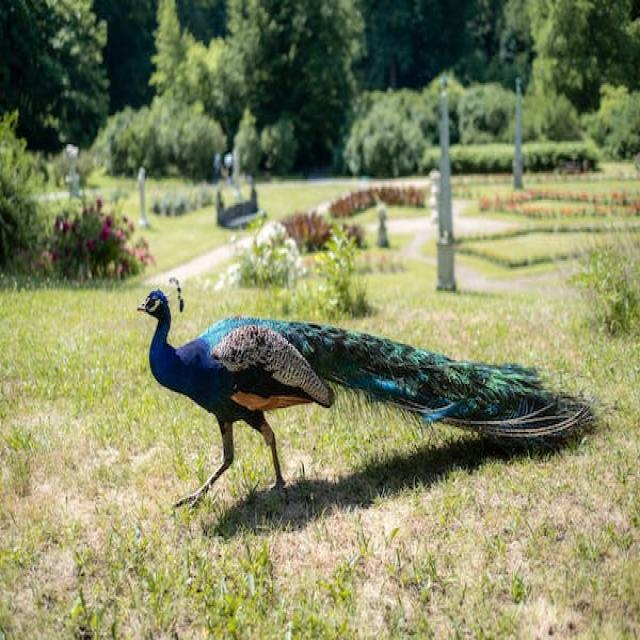peacock: (135, 277, 598, 519)
